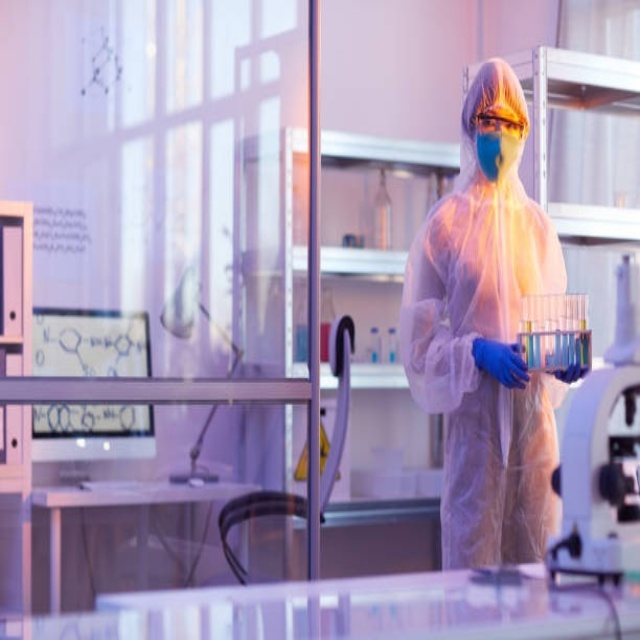Gafas: (475, 115, 526, 141)
Guantes: (472, 328, 533, 394), (552, 362, 593, 389)
Mascara: (476, 129, 513, 182)
